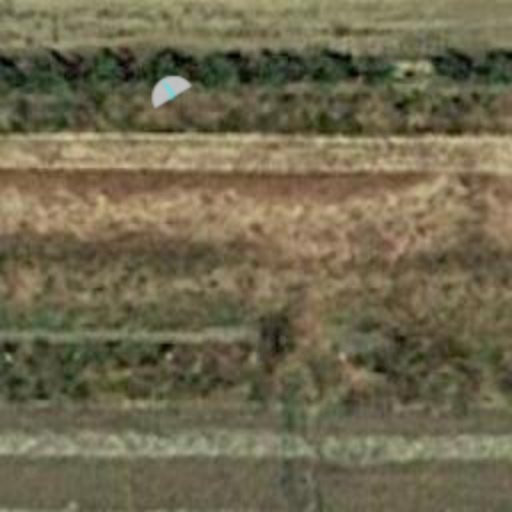semicircle: (138, 58, 198, 118)
